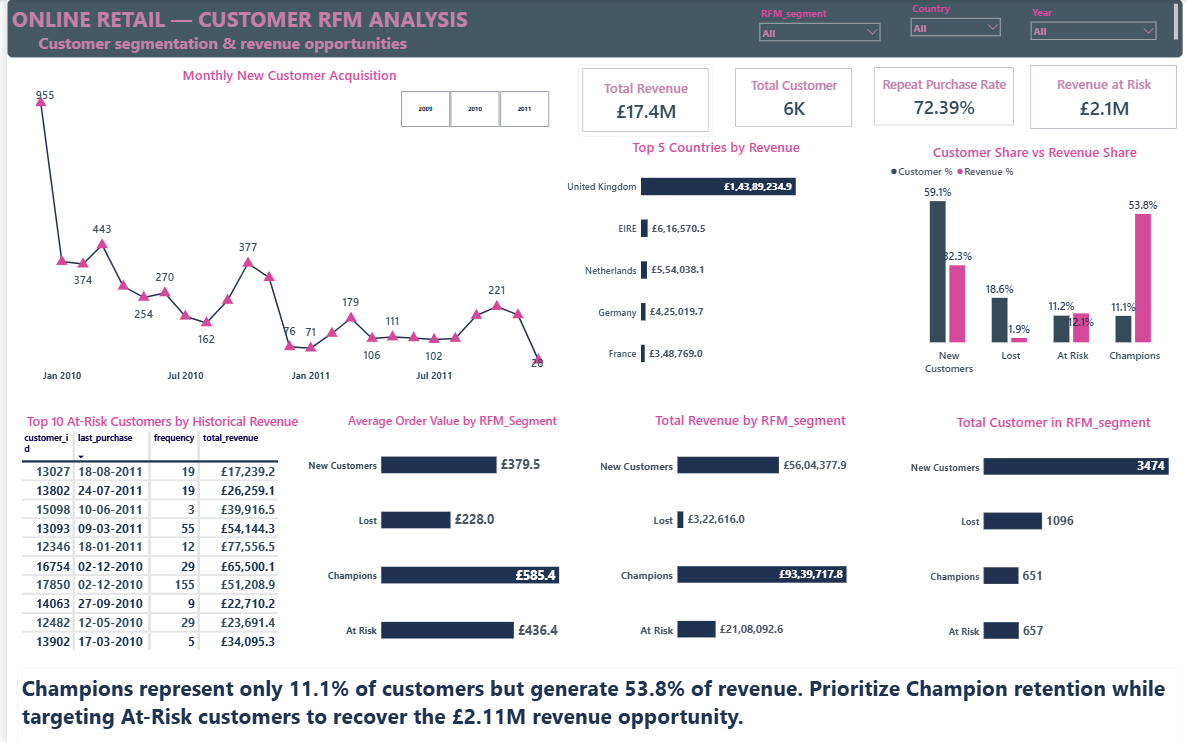

The dashboard page shown, as its layout file describes it:
{"tool":"powerbi","page":{"name":"Page 1","canvas":[2400,1500],"ordinal":0},"visuals":[{"type":"clusteredBarChart","title":"Total Revenue by RFM_segment","fields":{"Category":["customer_rfm.rfm_segment"],"Y":["Sum(customer_rfm.total_revenue)"]},"box":[1181.3,824.4,625.8,517.8],"z":0},{"type":"clusteredBarChart","title":"Total Customer in RFM_segment","fields":{"Category":["customer_rfm.rfm_segment"],"Y":["customer_rfm.Customer Count"]},"box":[1807.1,826.9,593.2,517.8],"z":1000},{"type":"clusteredBarChart","title":"Top 5 Countries by Revenue","fields":{"Category":["online_retail.country"],"Y":["online_retail.Total Revenue"]},"box":[1116,274,618.3,502.7],"z":2000},{"type":"cardVisual","fields":{"Data":["online_retail.Total Revenue"]},"box":[1148.6,130.7,271.4,145.8],"z":3000},{"type":"cardVisual","fields":{"Data":["online_retail.Total Customer"]},"box":[1455.3,130.7,253.9,135.7],"z":4000},{"type":"cardVisual","fields":{"Data":["customer_rfm.Repeat Purchase Rate"]},"box":[1734.3,128.2,299.1,135.7],"z":5000},{"type":"cardVisual","fields":{"Data":["customer_rfm.Revenue at Risk"]},"box":[2048.4,123.2,314.2,148.3],"z":6000},{"type":"clusteredColumnChart","title":"Customer Share vs Revenue Share","fields":{"Category":["customer_rfm.rfm_segment"],"Y":["customer_rfm.Customer %","customer_rfm.Revenue %"]},"box":[1766.9,284,598.2,482.6],"z":7000},{"type":"clusteredBarChart","title":"Average Order Value by RFM_Segment","fields":{"Category":["customer_rfm.rfm_segment"],"Y":["online_retail.Average Order Value"]},"box":[595.7,826.9,598.2,517.8],"z":8000},{"type":"tableEx","title":"Top 10 At-Risk Customers by Historical Revenue","fields":{"Values":["customer_rfm.customer_id","customer_rfm.last_purchase","customer_rfm.frequency","customer_rfm.total_revenue"]},"box":[20.1,826.9,583.1,515.3],"z":9000},{"type":"textbox","box":[0,0,2364.5,118.4],"z":10000},{"type":"lineChart","title":"Monthly New Customer Acquisition","fields":{"Y":["Sum(monthly_new_customers.new_customers)"],"Category":["monthly_new_customers.month.Variation.Date Hierarchy.Year","monthly_new_customers.month.Variation.Date Hierarchy.Month"]},"box":[19.1,130.9,1094.7,654.3],"z":11000},{"type":"textbox","box":[20.1,1344.7,2345,155.8],"z":11500},{"type":"slicer","fields":{"Values":["customer_rfm.rfm_segment"]},"box":[1502.6,10.3,262.4,100.3],"z":12000},{"type":"slicer","fields":{"Values":["online_retail.country"]},"box":[1806.2,0,200.7,110.6],"z":13000},{"type":"slicer","fields":{"Values":["online_retail.invoice_date.Variation.Date Hierarchy.Year1"]},"box":[2048,7.7,272.7,102.9],"z":14000},{"type":"slicer","fields":{"Values":["monthly_new_customers.month.Variation.Date Hierarchy.Year"]},"box":[766.6,178.5,346.9,85.5],"z":15001}]}

Visuals, with their boxes in screenshot pixels (x1, y1, x2, y2), scaled from the page's 2400x1500 canvas onto the 1187x742 screenshot:
"Total Revenue by RFM_segment" clusteredBarChart: pyautogui.locateOnScreen(584, 408, 894, 664)
"Total Customer in RFM_segment" clusteredBarChart: pyautogui.locateOnScreen(894, 409, 1186, 665)
"Top 5 Countries by Revenue" clusteredBarChart: pyautogui.locateOnScreen(552, 136, 858, 384)
cardVisual - online_retail.Total Revenue: pyautogui.locateOnScreen(568, 65, 702, 137)
cardVisual - online_retail.Total Customer: pyautogui.locateOnScreen(720, 65, 845, 132)
cardVisual - customer_rfm.Repeat Purchase Rate: pyautogui.locateOnScreen(858, 63, 1006, 131)
cardVisual - customer_rfm.Revenue at Risk: pyautogui.locateOnScreen(1013, 61, 1169, 134)
"Customer Share vs Revenue Share" clusteredColumnChart: pyautogui.locateOnScreen(874, 140, 1170, 379)
"Average Order Value by RFM_Segment" clusteredBarChart: pyautogui.locateOnScreen(295, 409, 590, 665)
"Top 10 At-Risk Customers by Historical Revenue" tableEx: pyautogui.locateOnScreen(10, 409, 298, 664)
textbox: pyautogui.locateOnScreen(0, 0, 1169, 59)
"Monthly New Customer Acquisition" lineChart: pyautogui.locateOnScreen(9, 65, 551, 388)
textbox: pyautogui.locateOnScreen(10, 665, 1170, 741)
slicer - customer_rfm.rfm_segment: pyautogui.locateOnScreen(743, 5, 873, 55)
slicer - online_retail.country: pyautogui.locateOnScreen(893, 0, 993, 55)
slicer - online_retail.invoice_date.Variation.Date Hierarchy.Year1: pyautogui.locateOnScreen(1013, 4, 1148, 55)
slicer - monthly_new_customers.month.Variation.Date Hierarchy.Year: pyautogui.locateOnScreen(379, 88, 551, 131)
